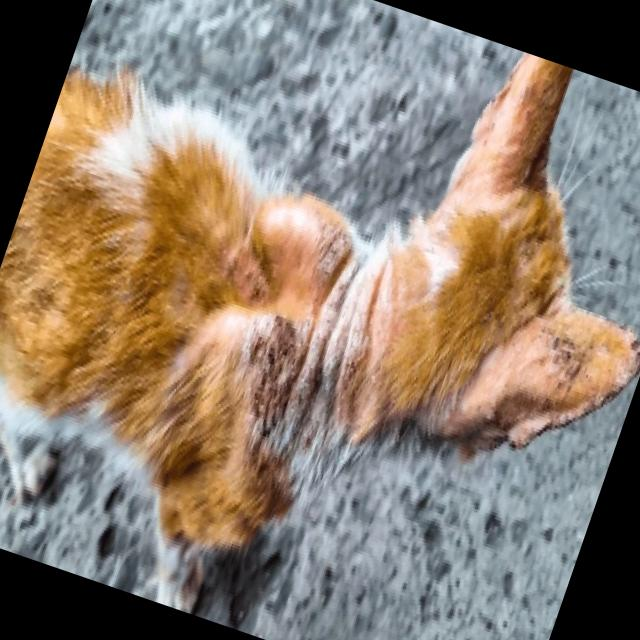Mange: (230, 311, 328, 444), (541, 324, 589, 382), (314, 224, 356, 284), (246, 271, 274, 309), (296, 428, 322, 461), (624, 326, 640, 363)
